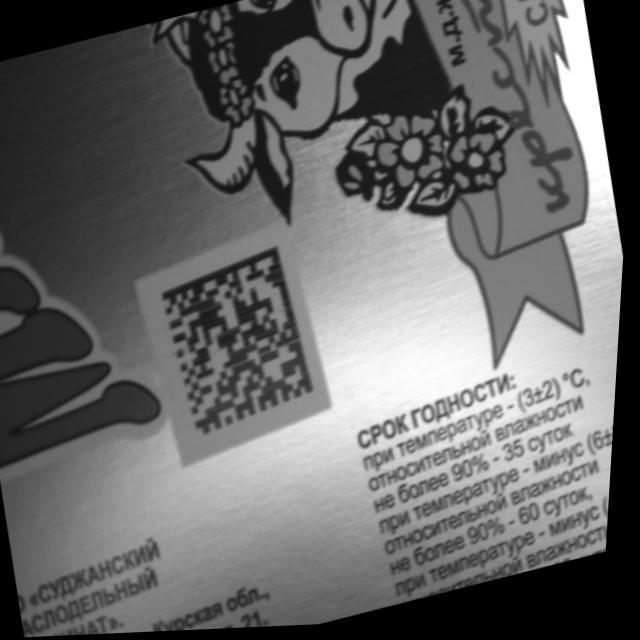datamatrix: (153, 244, 329, 443)
